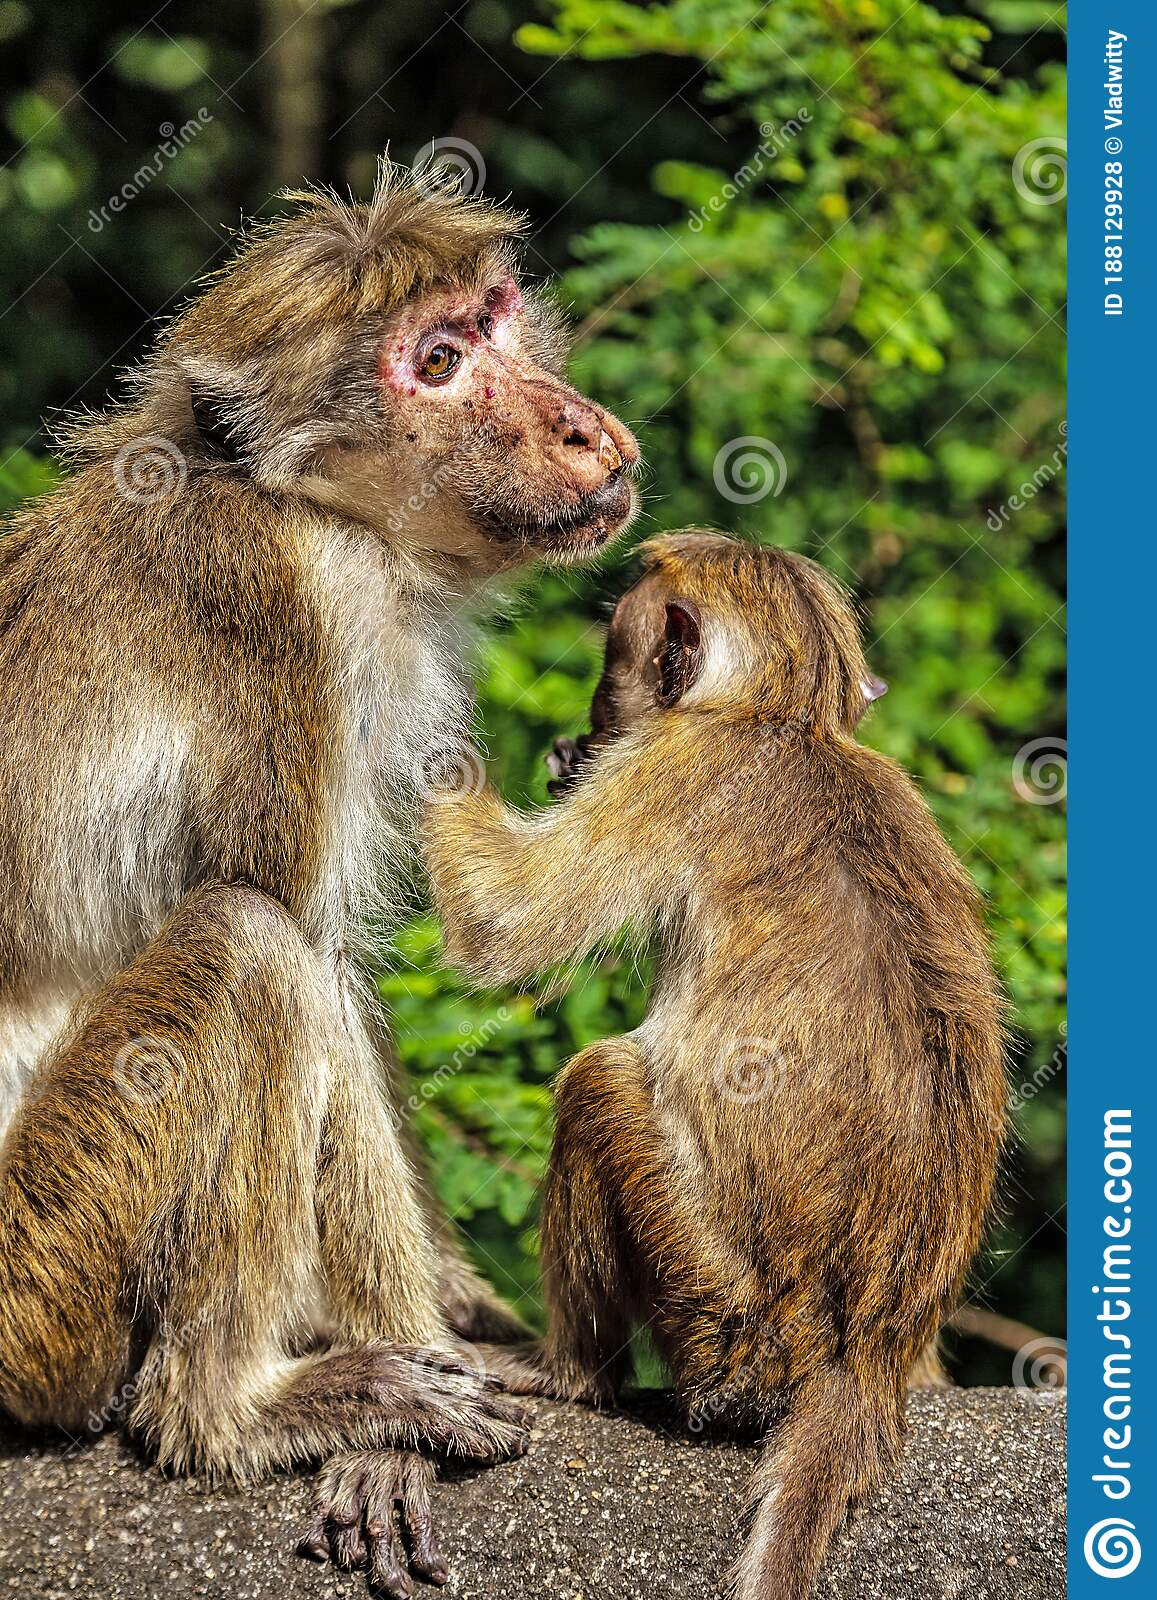Monkey: (1, 125, 665, 1600), (437, 504, 1027, 1487)
